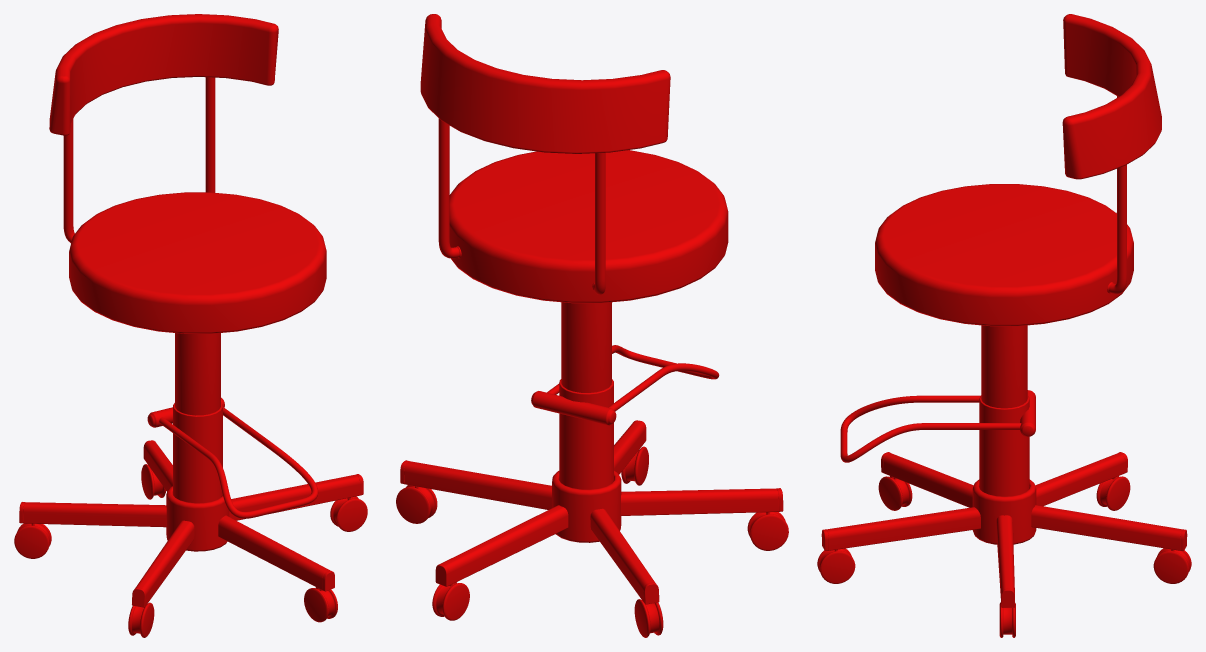
Rendered from Medical_chair_1.fbx.
3 views of the same model, side by side, from view 1: azimuth 30°, elevation 25°; view 2: azimuth 150°, elevation 25°; view 3: azimuth 270°, elevation 25° (orthographic). The views are drawn at different scales.
Parts seen in each view (by area): view 1: L5:pCylinder93; view 2: L5:pCylinder93; view 3: L5:pCylinder93.
Boxes of the visible parts, <box> form: L5:pCylinder93: <box>14,14,367,637</box>; L5:pCylinder93: <box>396,14,788,637</box>; L5:pCylinder93: <box>817,14,1191,637</box>.
Bounding box in the file's own units: 53.02 × 85.07 × 57.99.
